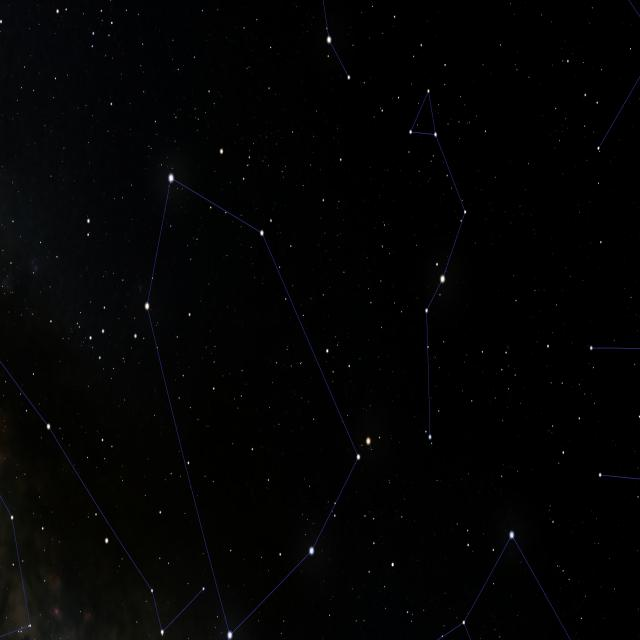Serpens: (392, 83, 470, 454)
